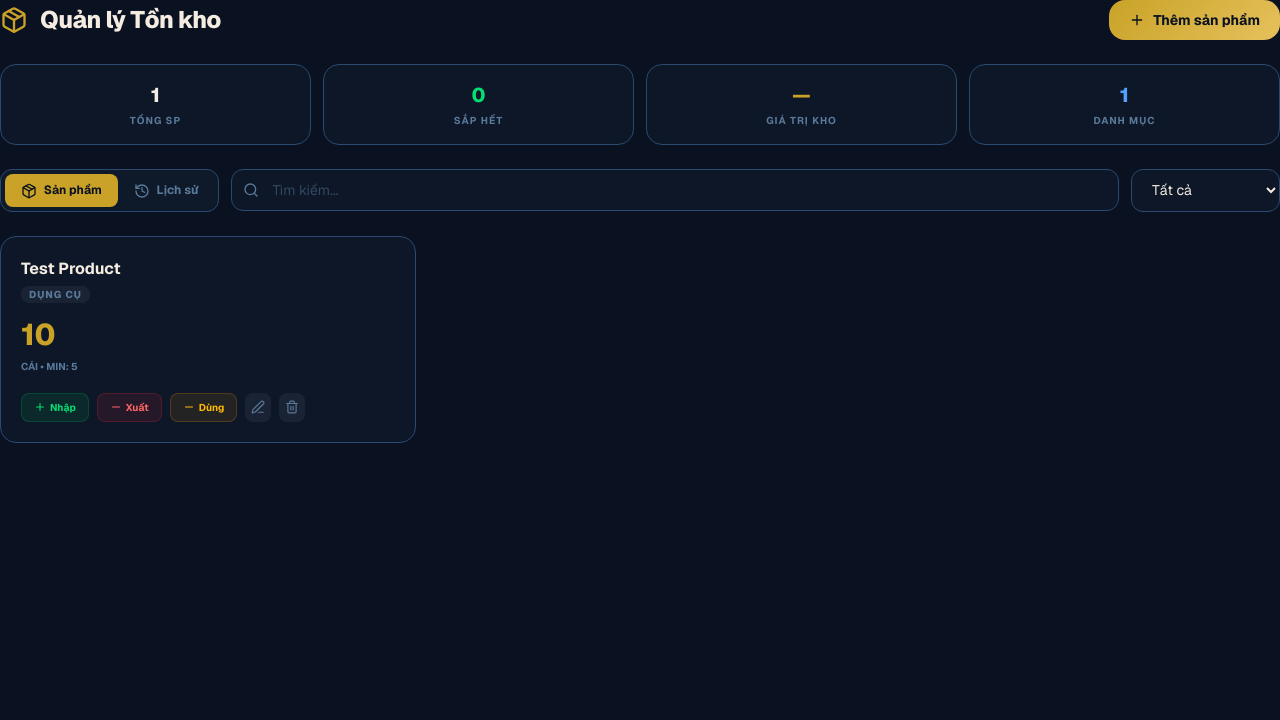
InventoryManagement Component › opens add modal when clicking "Thêm sản phẩm"
Click the button "Thêm sản phẩm".
click(1195, 20)  # box [1109,0,1279,40]
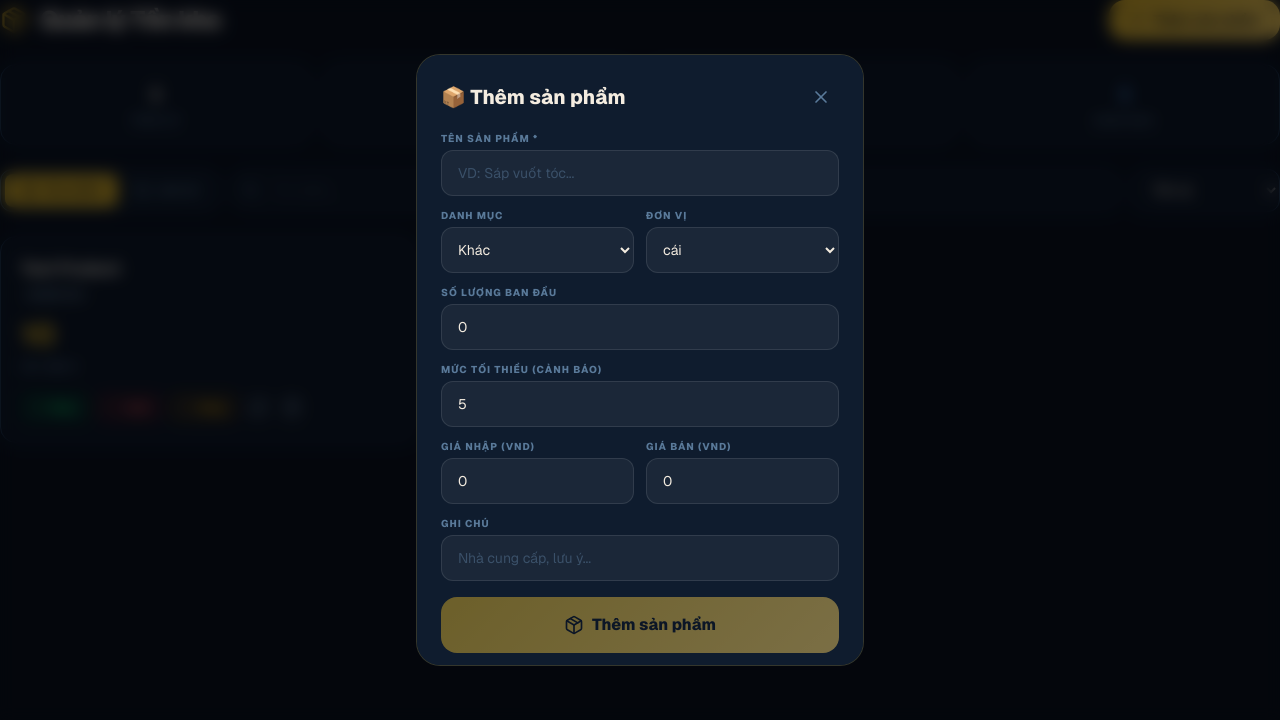
Now the heading "📦 Thêm sản phẩm" is shown, box [441,83,626,111]
Now the field with placeholder "VD: Sáp vuốt tóc..." is shown, box [441,150,839,196]
